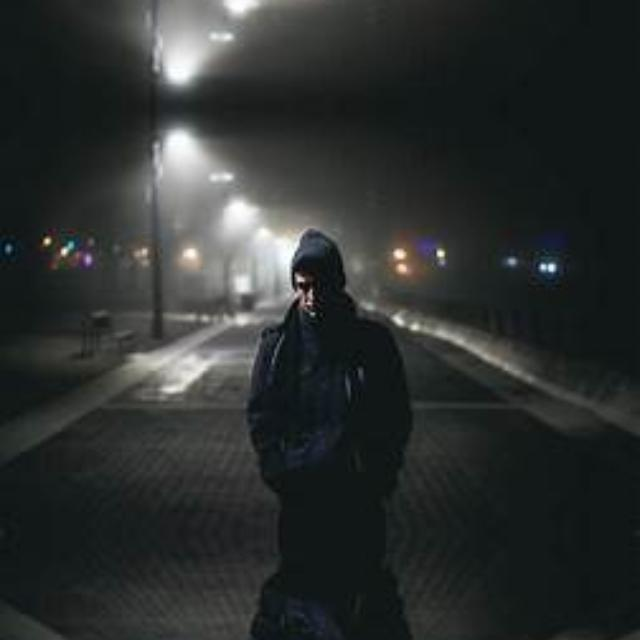person: (246, 238, 408, 508), (245, 557, 408, 640)
